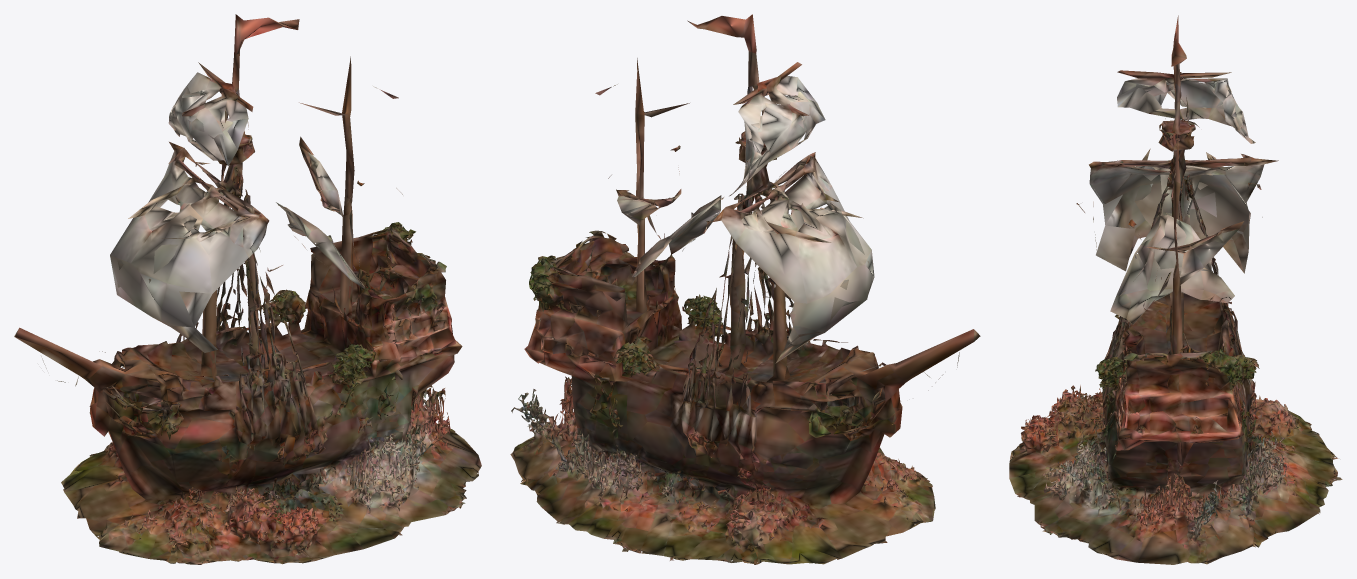
The model's file is shipwreck.glb.
3 views of the same model, side by side, from view 1: azimuth 30°, elevation 25°; view 2: azimuth 150°, elevation 25°; view 3: azimuth 270°, elevation 25° (orthographic). The views are drawn at different scales.
Bounding box in the file's own units: 1.93 × 1.98 × 1.33.
Materials: 1 (1 with a texture image).
